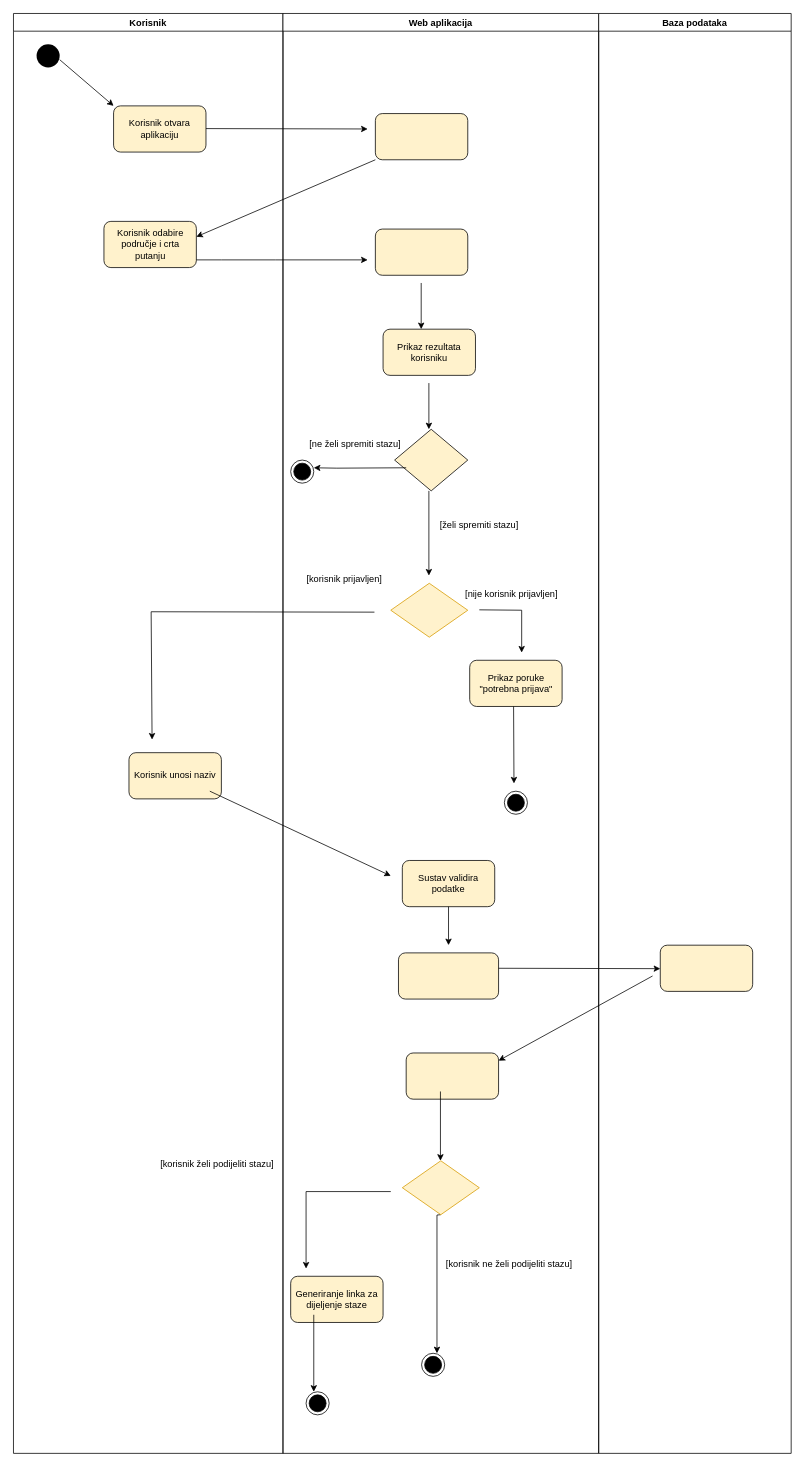
Image size: 805x1467. Some labels were removed from this diagram. Here are the shapes that lost their labels. From the top down, the centre of each, then its label:
point (421, 136): Prikaz karte
point (421, 251): Izračun rezultata
point (448, 975): Slanje zahtjeva za spremanje(API POST)
point (706, 967): Spremanje u bazu podataka
point (452, 1075): Prikaz potvrde uspješno spremanje
